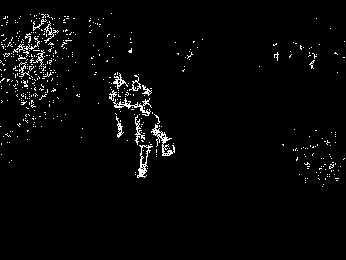person: (136, 102, 175, 178), (108, 71, 128, 137), (128, 73, 151, 120)
